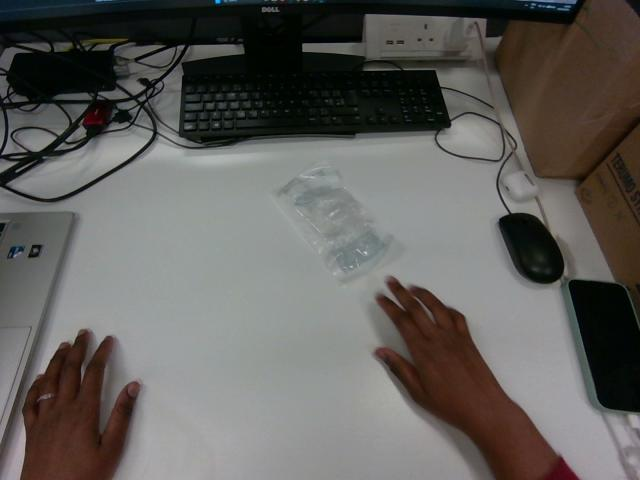gallipot: (274, 165, 390, 281)
